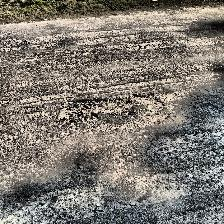pothole: (56, 93, 168, 123)
